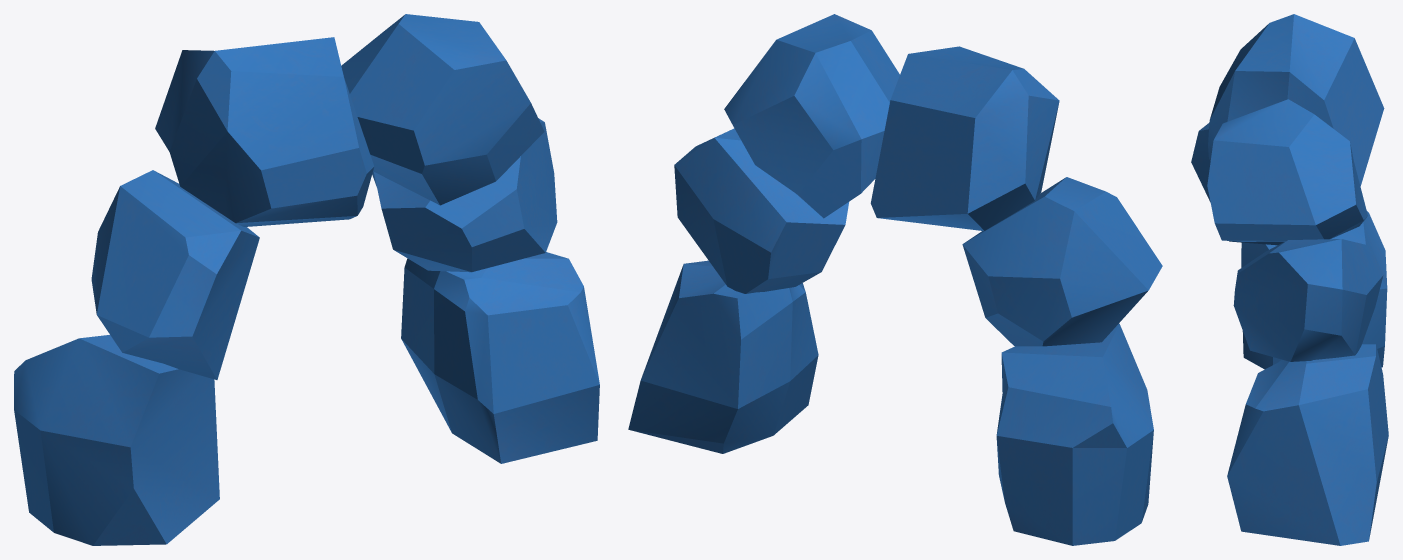
The model's file is ZenBlocks.fbx.
3 views of the same model, side by side, from view 1: azimuth 30°, elevation 25°; view 2: azimuth 150°, elevation 25°; view 3: azimuth 270°, elevation 25° (orthographic). The views are drawn at different scales.
Parts seen in each view (by area): view 1: Stone_1, Stone_6, Stone_3, Stone_4, Stone_2, Stone_5; view 2: Stone_1, Stone_3, Stone_6, Stone_2, Stone_4, Stone_5; view 3: Stone_6, Stone_4, Stone_5, Stone_3, Stone_1, Stone_2.
Boxes of the visible parts, bbox=[...] form: Stone_1: bbox=[14, 335, 219, 545]; Stone_6: bbox=[401, 252, 599, 463]; Stone_3: bbox=[155, 37, 374, 226]; Stone_4: bbox=[341, 14, 544, 205]; Stone_2: bbox=[91, 170, 259, 379]; Stone_5: bbox=[372, 118, 557, 272]; Stone_1: bbox=[996, 323, 1153, 545]; Stone_3: bbox=[870, 46, 1059, 230]; Stone_6: bbox=[628, 260, 818, 453]; Stone_2: bbox=[962, 177, 1162, 346]; Stone_4: bbox=[724, 14, 899, 218]; Stone_5: bbox=[674, 128, 848, 293]; Stone_6: bbox=[1227, 344, 1388, 545]; Stone_4: bbox=[1207, 99, 1367, 241]; Stone_5: bbox=[1233, 239, 1383, 361]; Stone_3: bbox=[1208, 14, 1384, 186]; Stone_1: bbox=[1241, 211, 1387, 369]; Stone_2: bbox=[1191, 123, 1284, 245].
Bounding box in the file's own units: 16.5 × 12.93 × 6.17.
